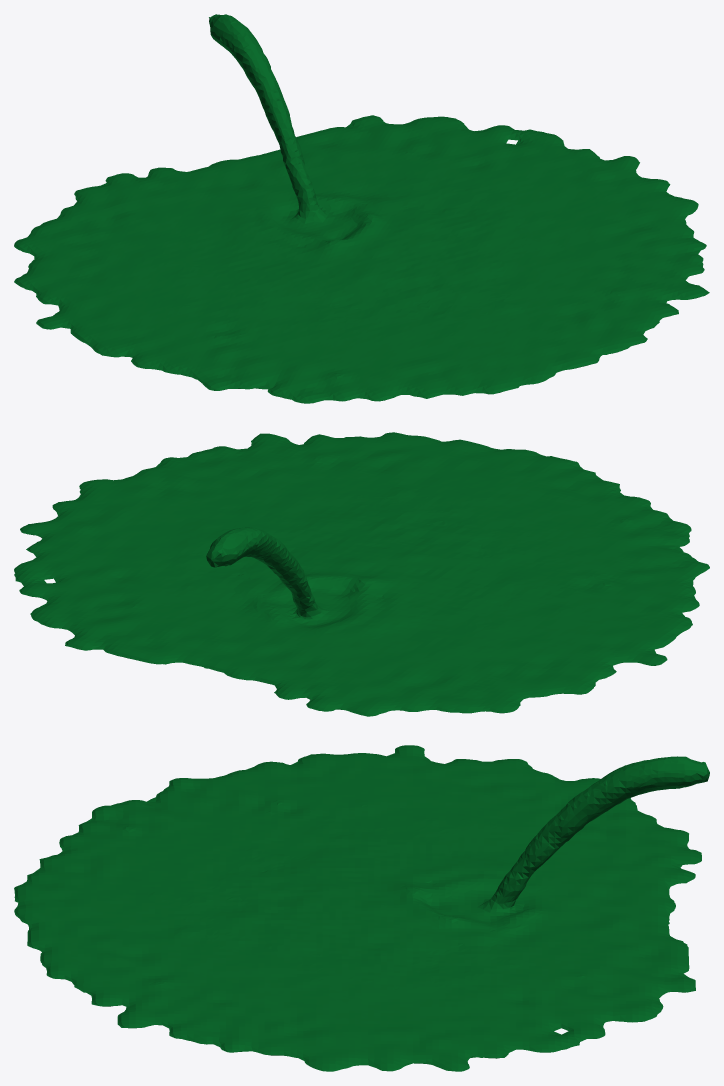
File: fluid_51.fbx
3 renders of one model, top to bottom at view 1: azimuth 30°, elevation 25°; view 2: azimuth 150°, elevation 25°; view 3: azimuth 270°, elevation 25°, orthographic. The views are drawn at different scales.
Visible parts, largest first — view 1: Cube; view 2: Cube; view 3: Cube.
Part boxes in pixels (x1=…): Cube: x1=14, y1=14, x2=709, y2=403; Cube: x1=14, y1=432, x2=709, y2=716; Cube: x1=14, y1=745, x2=709, y2=1071.
Bounding box in the file's own units: 784 × 176 × 708.
